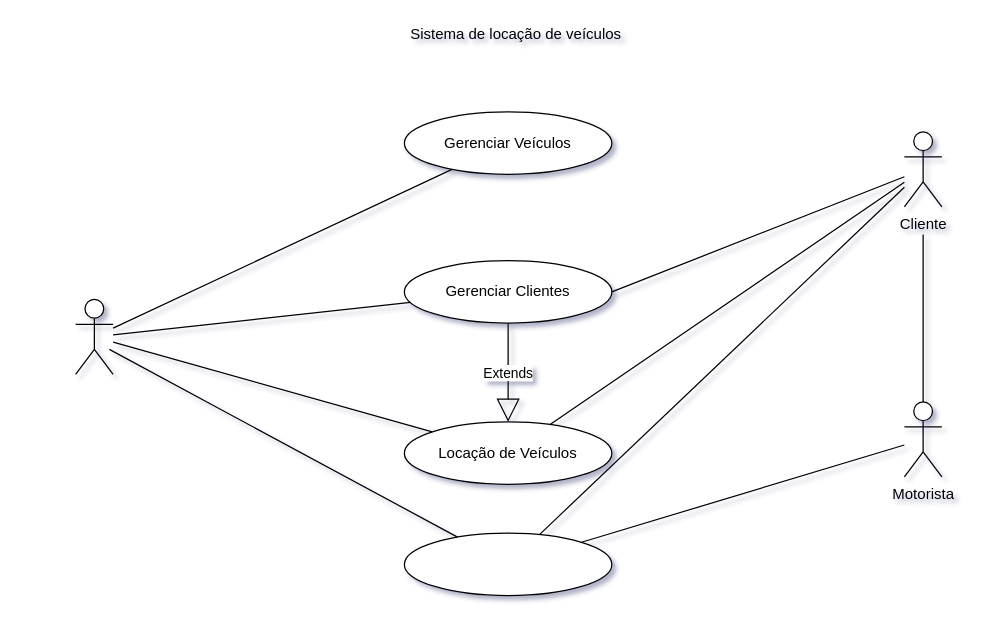
Image size: 983x625. Some labels were removed from this diagram. Here are the shapes that lost their labels. From the top down, the centre of each, then its label:
(x=93, y=336): Locadora De Veículos
(x=507, y=564): Devolução de Veículos
